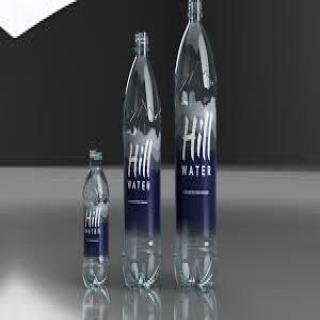Plastic-bottle: (173, 1, 220, 296), (123, 30, 164, 296), (82, 148, 112, 293)
